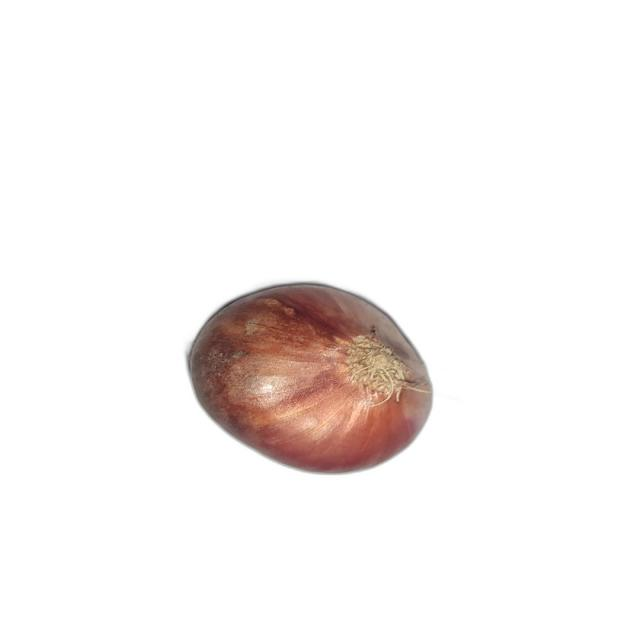onion: (186, 282, 436, 476)
